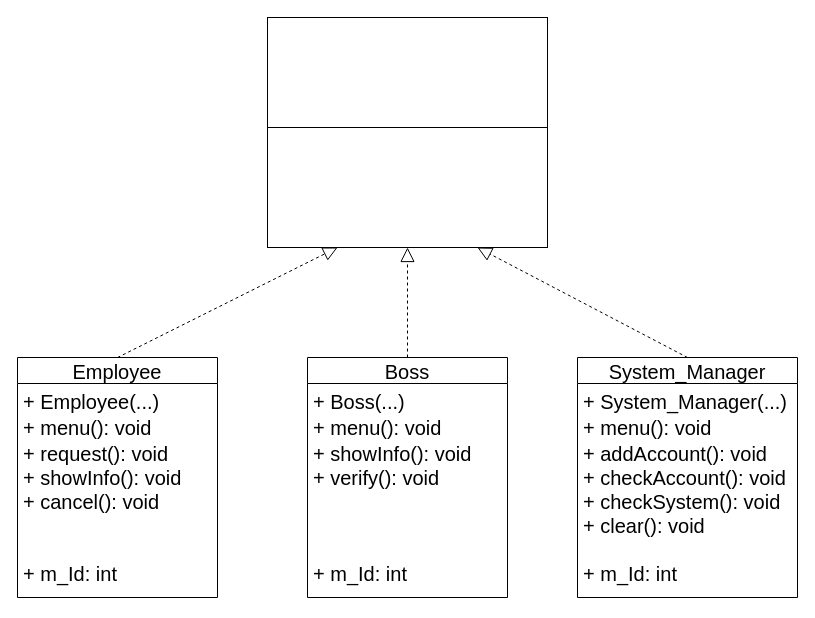
Image size: 815x618. Some labels were removed from this diagram. The centre of each missing label's shape, as x and y in pixels:
"+ Menu(): void + m_Name: string + m_Pwd: string" goes at (x=407, y=187).
"«interface» Identity" goes at (x=407, y=72).
